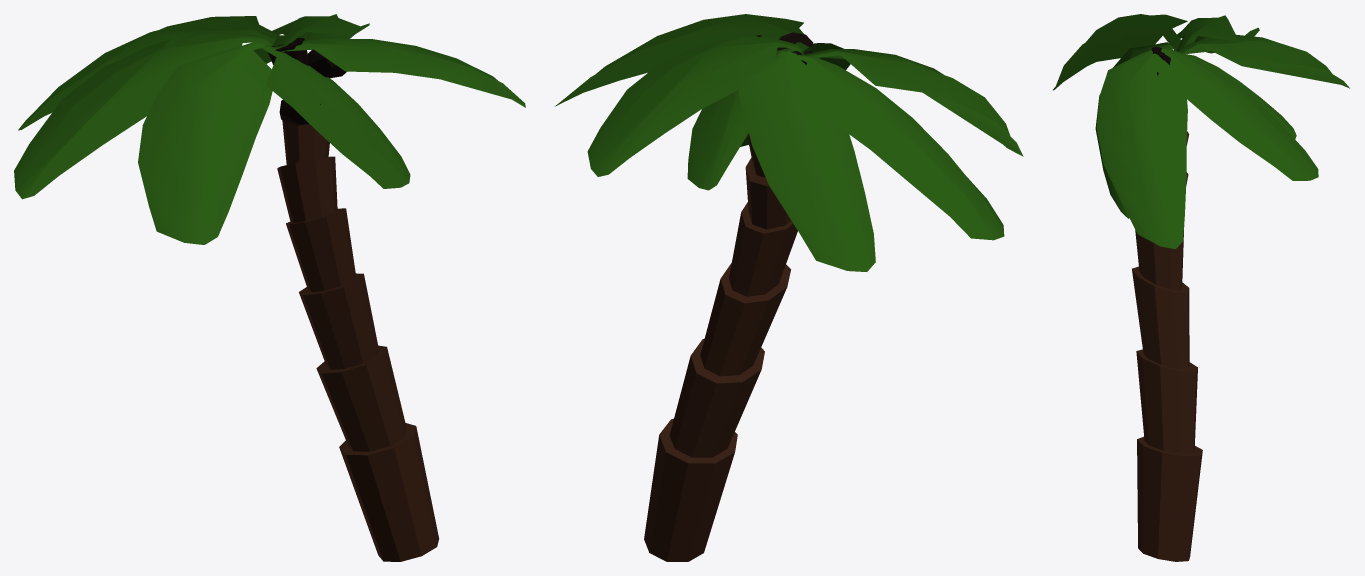
The model's file is palm.obj.
3 views of the same model, side by side, from view 1: azimuth 30°, elevation 25°; view 2: azimuth 150°, elevation 25°; view 3: azimuth 270°, elevation 25° (orthographic). The views are drawn at different scales.
Parts seen in each view (by area): view 1: palm_frond.002; view 2: palm_frond.002; view 3: palm_frond.002.
Boxes of the visible parts, x1,y1,x2,y2 form: palm_frond.002: (14, 14, 525, 561); palm_frond.002: (554, 14, 1023, 561); palm_frond.002: (1053, 14, 1349, 561).
Bounding box in the file's own units: 3.51 × 3.85 × 2.26.
